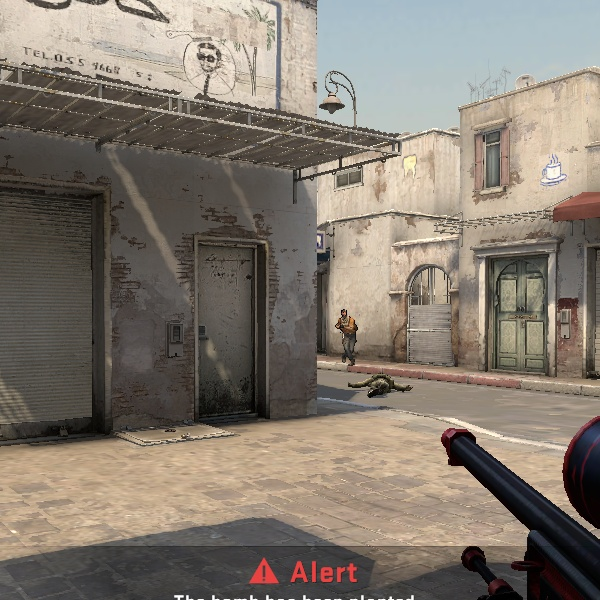t_body: (328, 306, 361, 368)
